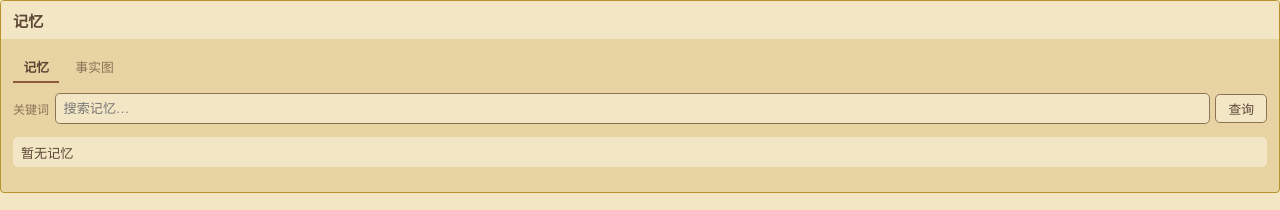
Test: MemoryPanel › 事实加载失败：图区域显示错误但面板仍可切换
The width and height of the screenshot is (1280, 210).
Click the tab "事实图" at [95, 67], box [65,52,124,83]
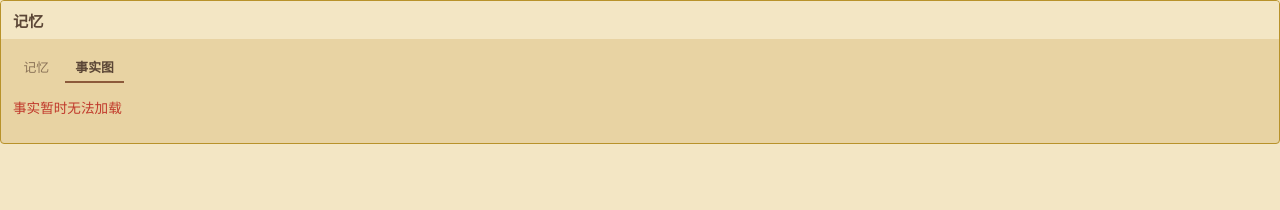
Check: the tab "记忆" is shown, box [13,52,59,83]
Check: the text "事实暂时无法加载" is shown, box [13,101,122,116]
